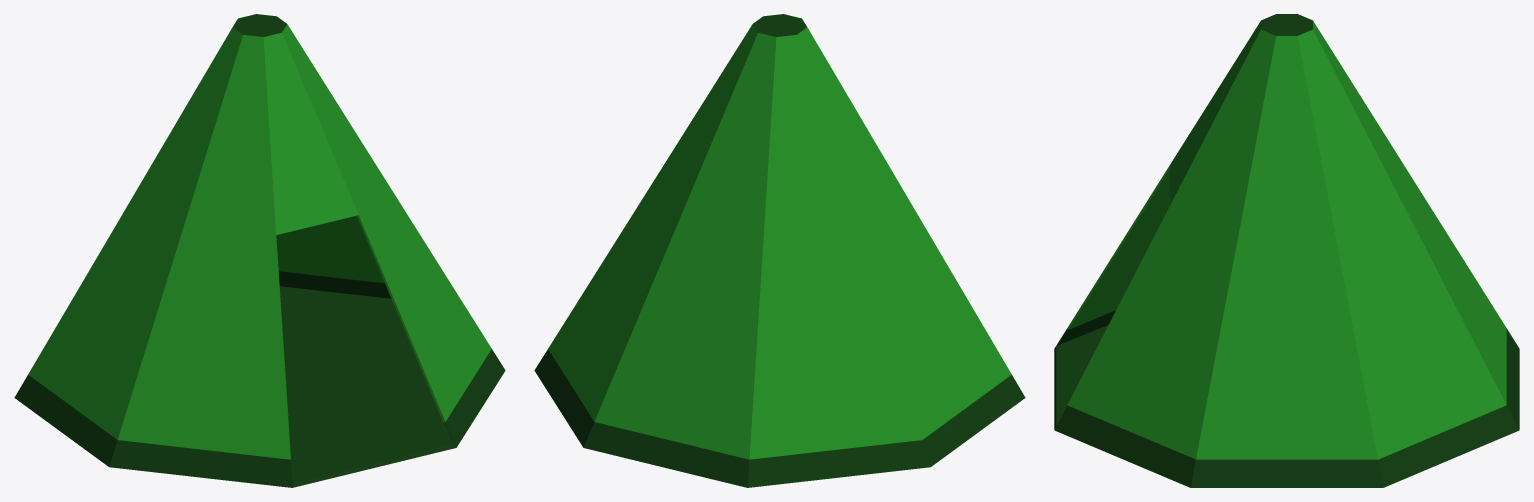
The model's file is Tent_3_Green.fbx.
3 renders of one model, left to right at view 1: azimuth 30°, elevation 25°; view 2: azimuth 150°, elevation 25°; view 3: azimuth 270°, elevation 25°, orthographic.
Visible parts, largest first — view 1: Tent_2_Green; view 2: Tent_2_Green; view 3: Tent_2_Green.
Boxes of the visible parts, left/top/right/bottom form: Tent_2_Green: left=14, top=14, right=505, bottom=487; Tent_2_Green: left=534, top=14, right=1025, bottom=487; Tent_2_Green: left=1054, top=14, right=1519, bottom=487.
Bounding box in the file's own units: 240 × 208 × 240.
